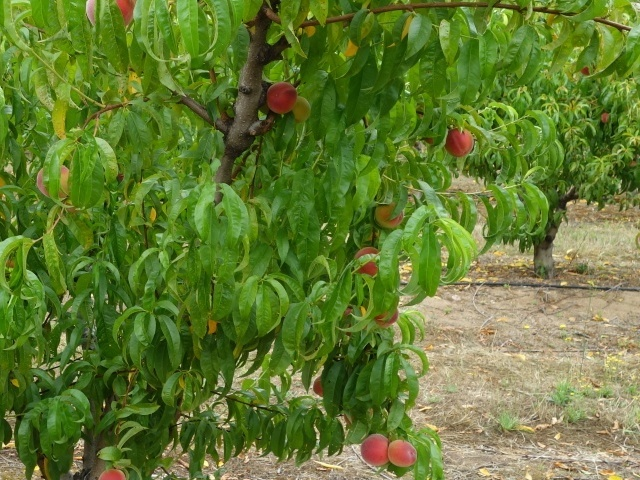peach: (33, 161, 76, 203), (81, 1, 137, 31), (263, 79, 301, 116), (359, 432, 396, 469), (383, 434, 421, 470), (443, 124, 476, 162), (349, 244, 384, 278), (372, 197, 406, 230), (287, 93, 315, 125), (371, 301, 401, 329), (308, 374, 331, 403), (93, 465, 129, 479)
